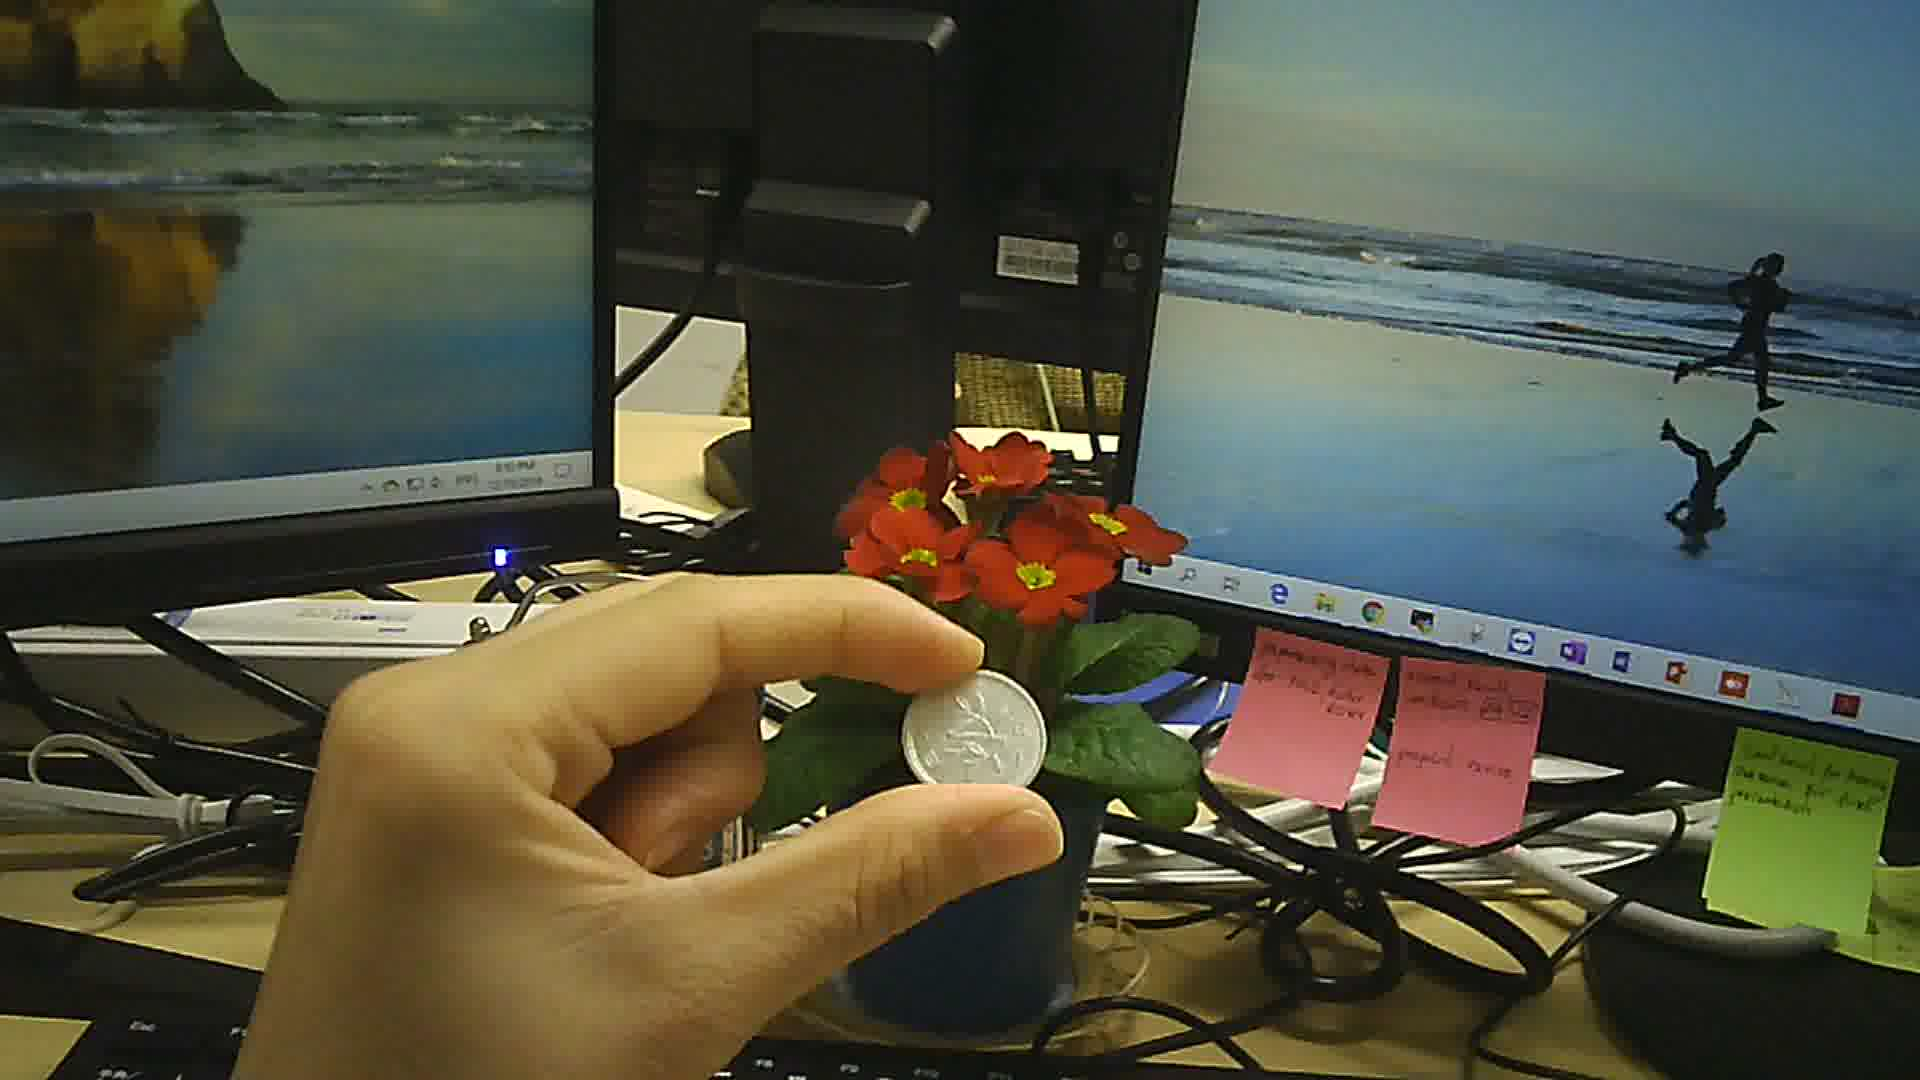1 Yen: (895, 662, 1054, 803)
